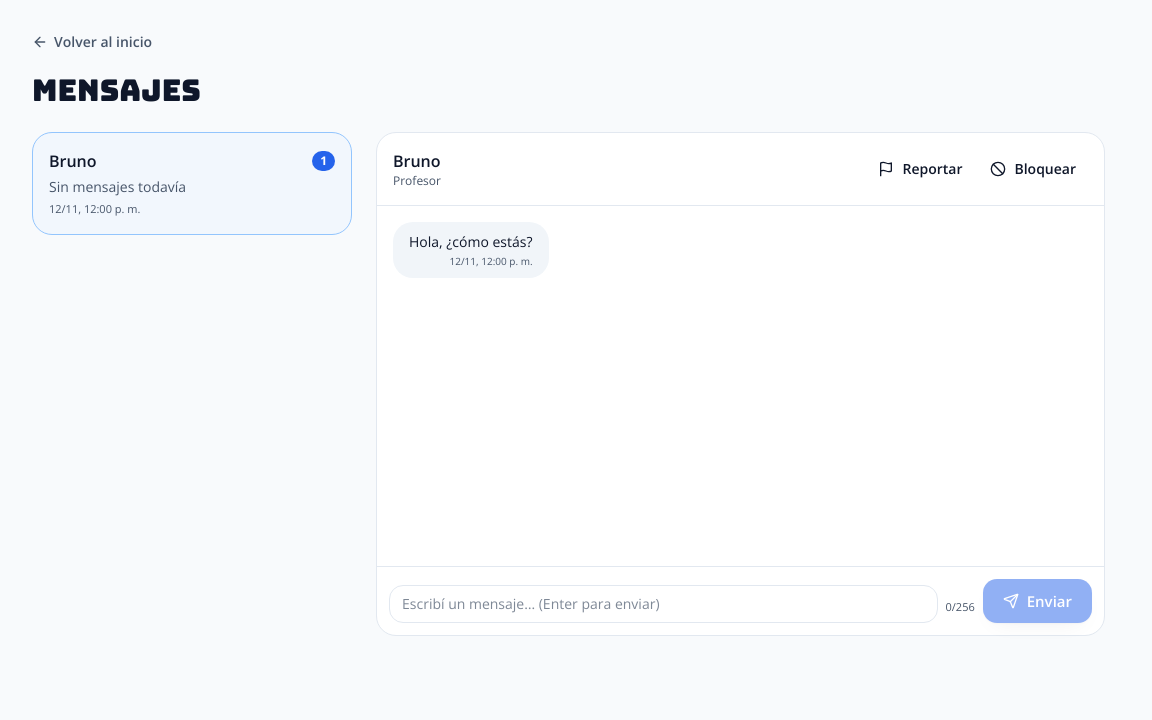
Test: MessagesPage › locks the composer when the other participant blocked the thread
Step 1. Type "Hola" into the text box with test id "composer" → x=663, y=604, box left=389, top=585, right=938, bottom=623
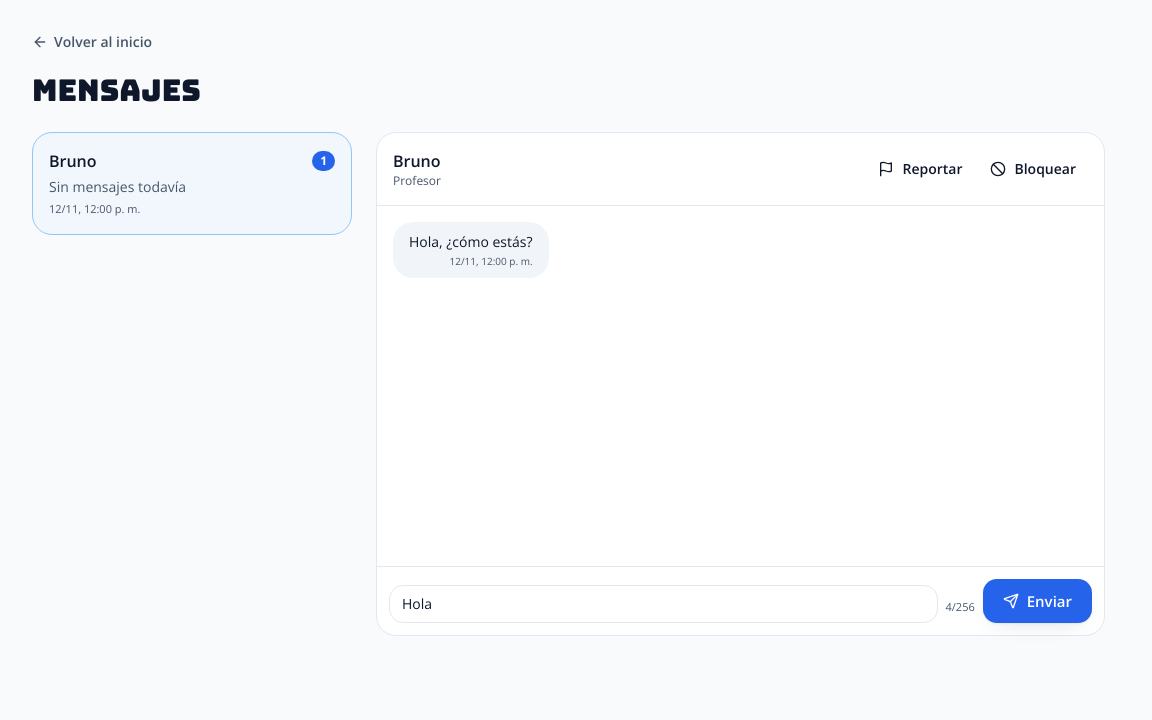
Step 2. Click the button "Enviar" → x=1037, y=601, box left=983, top=579, right=1092, bottom=623
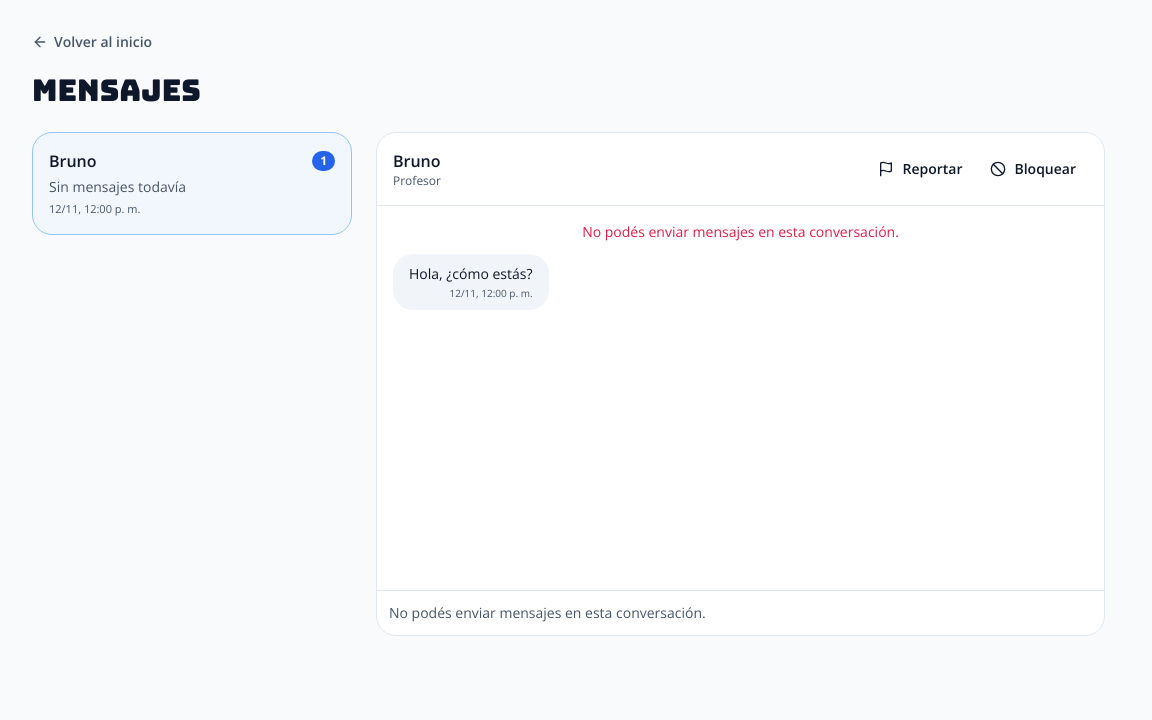
Expected: the text "No podés enviar mensajes en esta conversación." is shown, left=582, top=222, right=899, bottom=241
Expected: the text box with test id "composer" is gone
